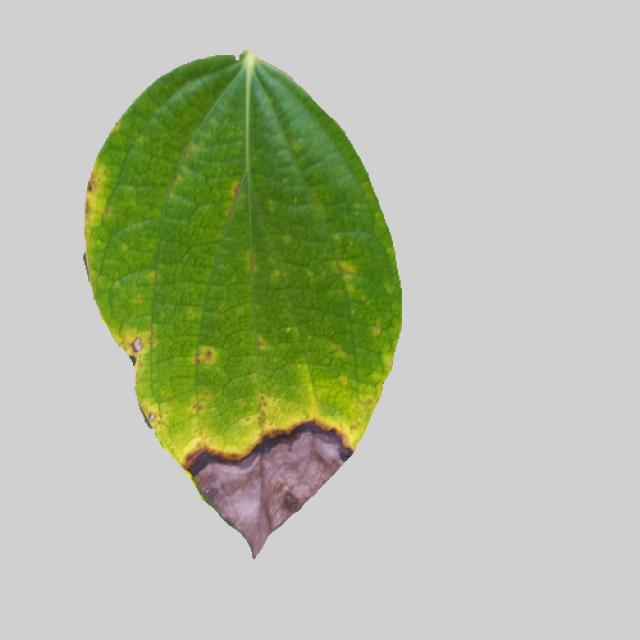leaf-blight: (72, 58, 412, 556)
